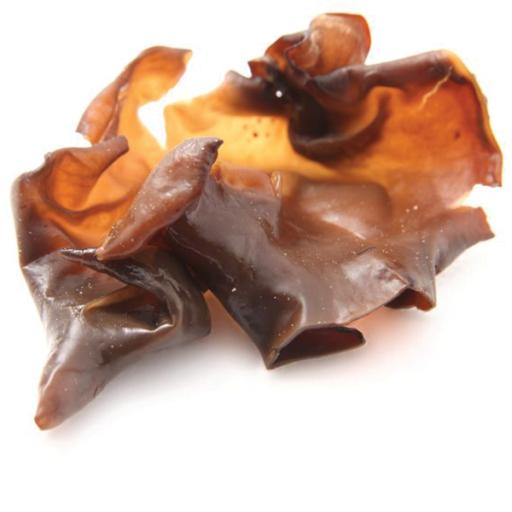Wood Ear Mushroom: (2, 5, 512, 439)
